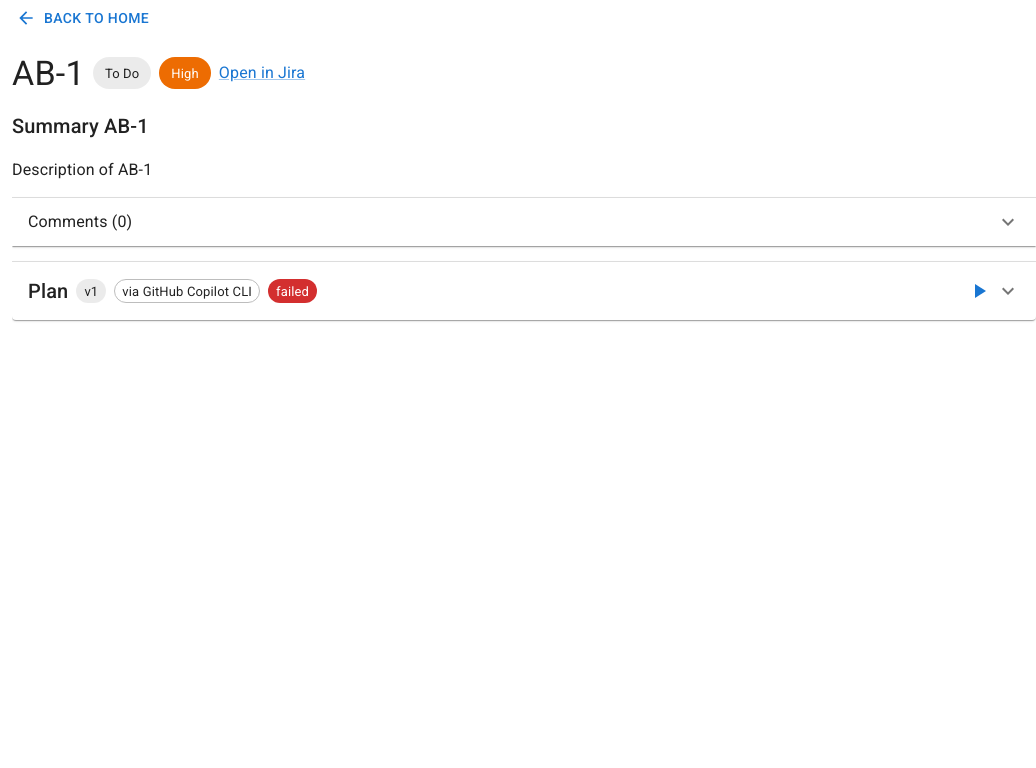
Test: failed plan shows the error and can be retried
Click the button "Plan v1 via GitHub Copilot CLI failed" at (48, 291), box [28,274,1020,308]
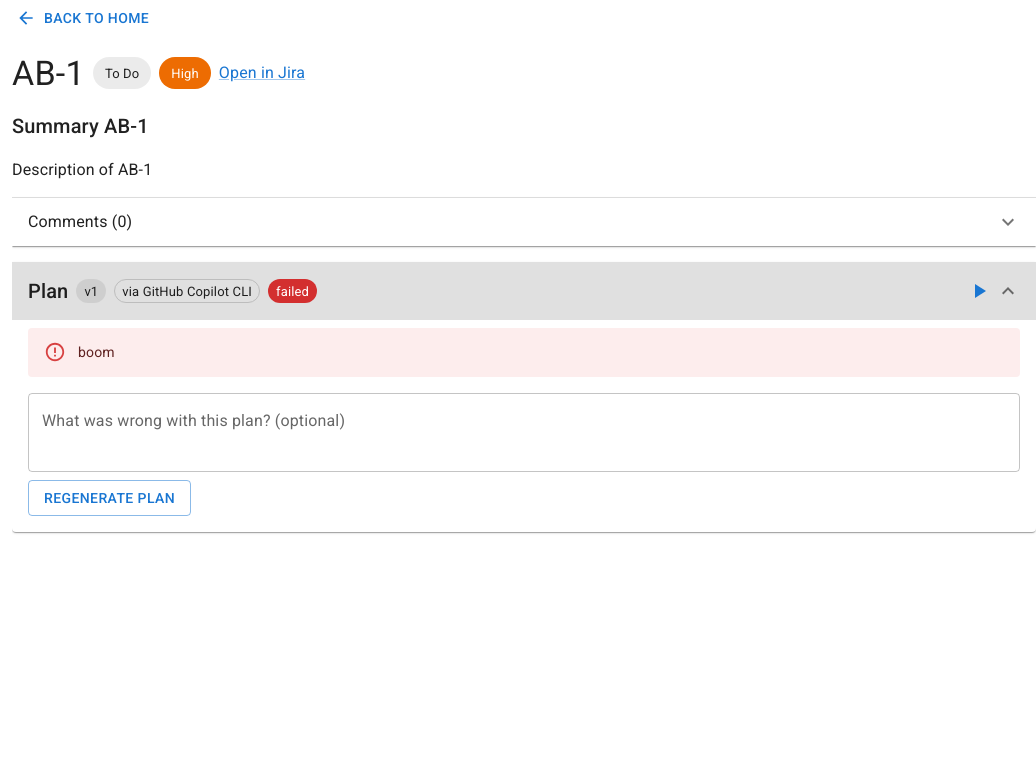
Check: the message reads "boom", box [78,344,115,360]
Check: the button "Regenerate plan" is shown, box [28,480,191,516]
